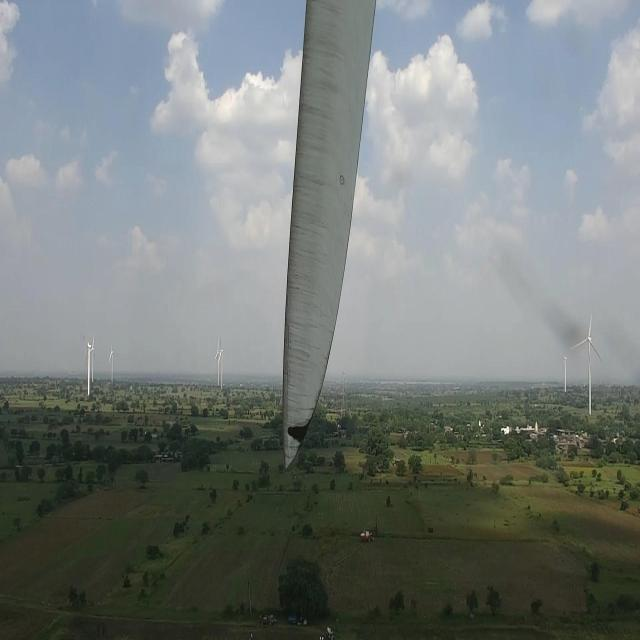oil_leakage: (287, 423, 309, 444)
